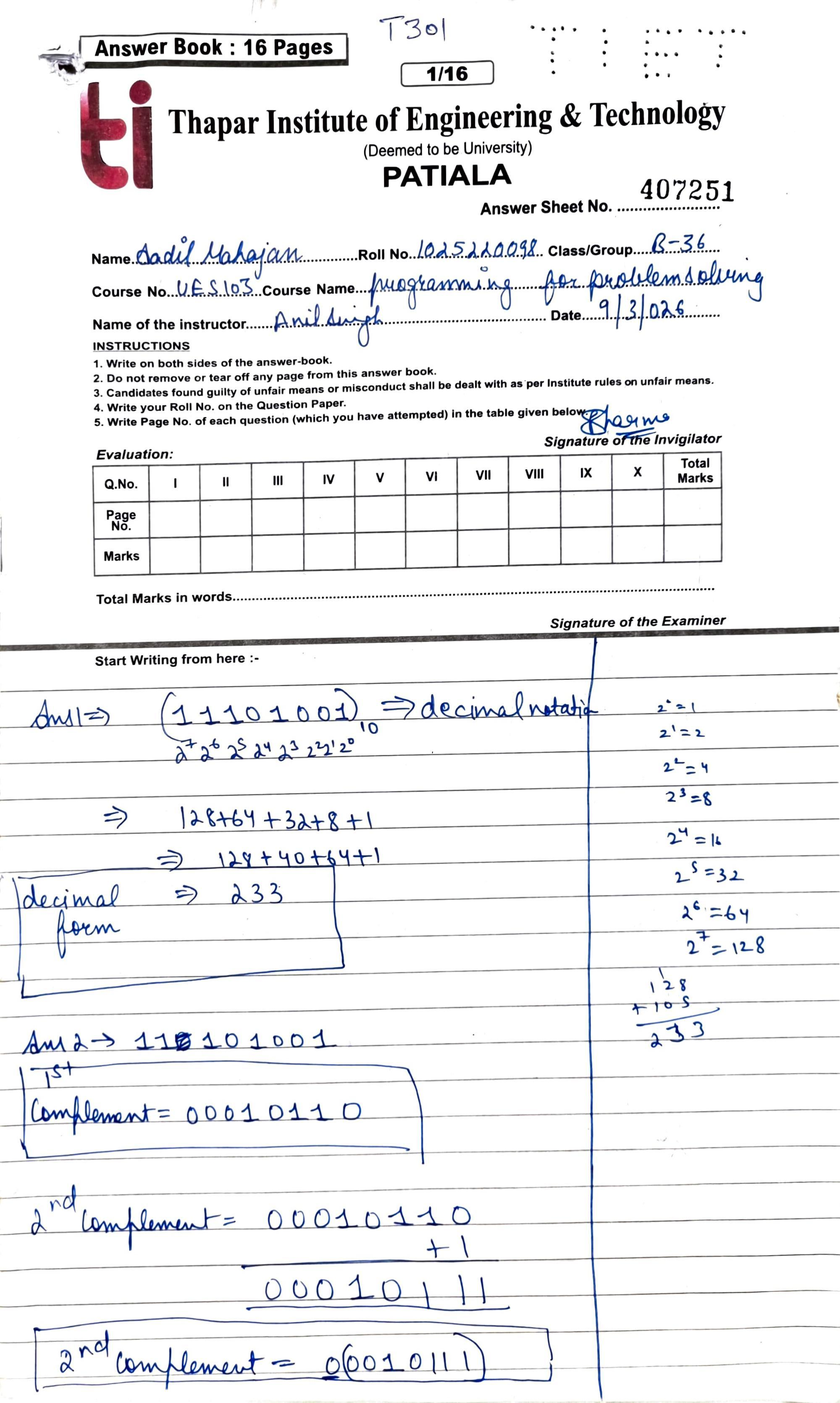cuttings: (174, 1031, 193, 1052)
